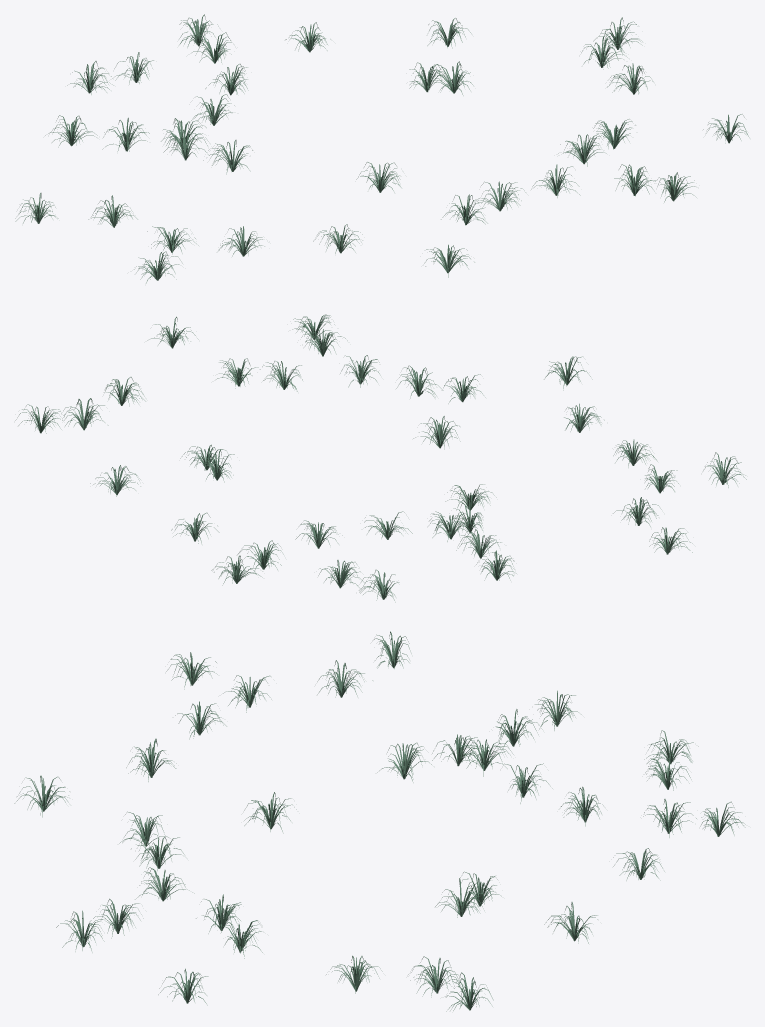
File: teaching3-vegetation-20-near.glb
The picture shows the model from 3 angles, top to bottom: view 1: azimuth 30°, elevation 25°; view 2: azimuth 150°, elevation 25°; view 3: azimuth 270°, elevation 25°; orthographic projection. The views are drawn at different scales.
Parts seen in each view (by area): view 1: mondo grass.003; view 2: mondo grass.003; view 3: mondo grass.003.
Part boxes in pixels (x1,y1,x2,y2): mondo grass.003: [15, 14, 749, 283]; mondo grass.003: [15, 314, 746, 602]; mondo grass.003: [14, 631, 745, 1011].
Size of the model in its own units: 12.9 by 0.4748 by 10.86.
